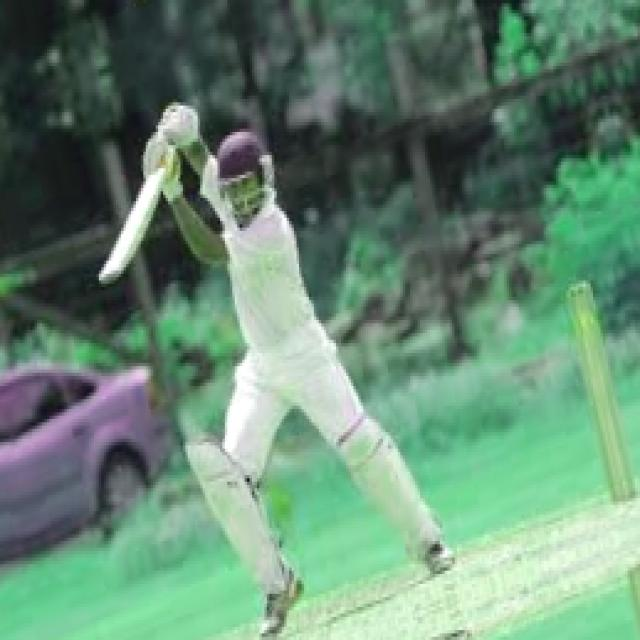toe: (96, 241, 129, 303)
